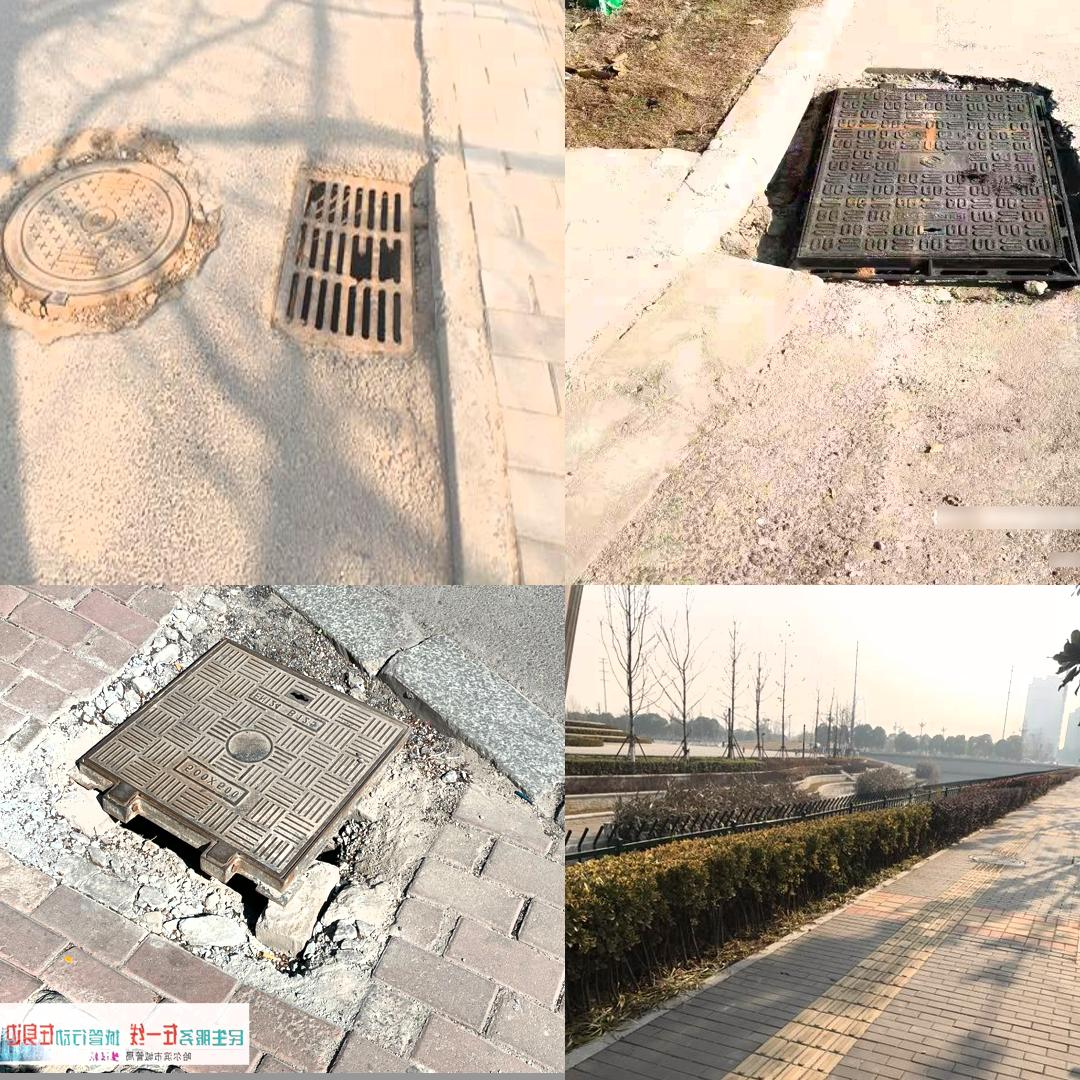circle: (1, 634, 471, 974), (751, 77, 1080, 297), (0, 107, 230, 352)
